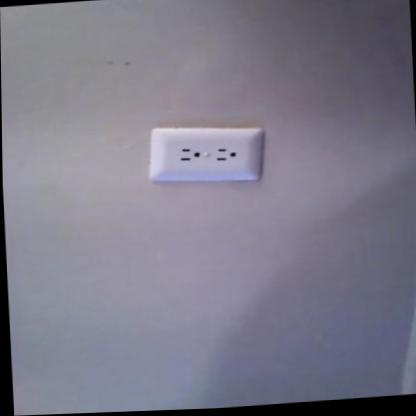OUTLET: (149, 119, 265, 188)
